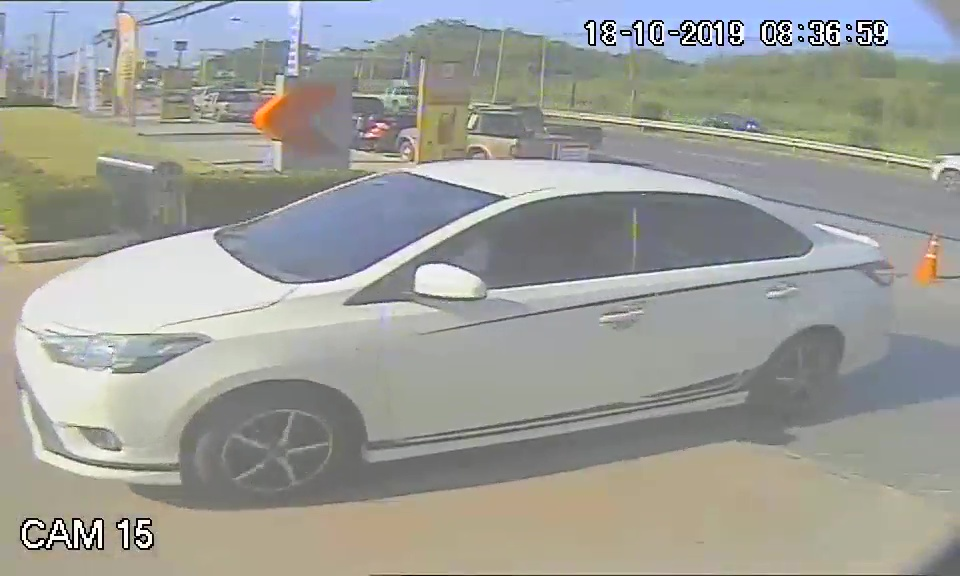sedan: (20, 156, 898, 498)
